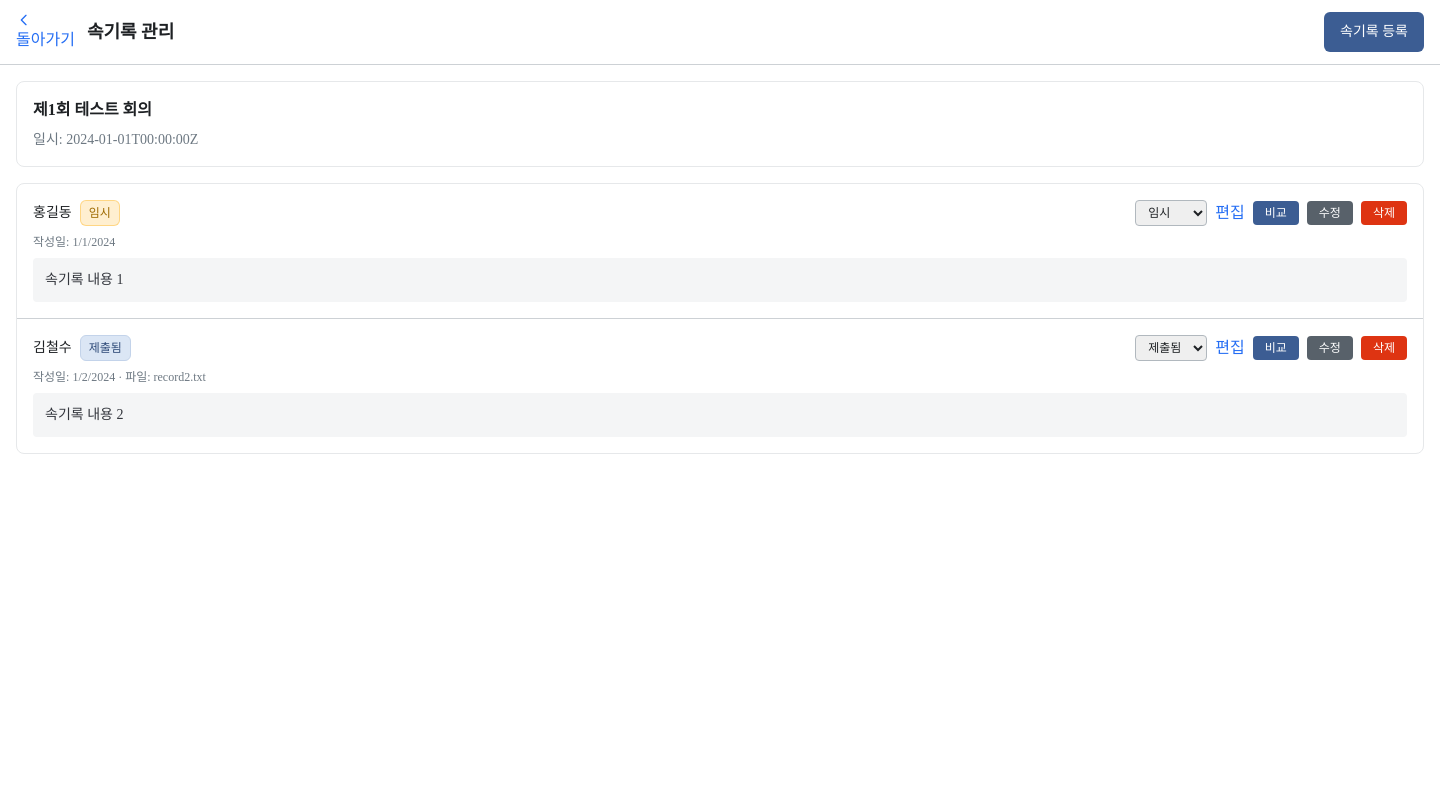
Test: StenographyPage › opens form modal when add button is clicked
The width and height of the screenshot is (1440, 810).
Expected: the element with test id "stenography-page" is shown, left=0, top=0, right=1439, bottom=470
What coordinates should you click on to do the following:
click the button with test id "add-record-button"
I would click on:
 (1374, 32)
Its box is left=1324, top=12, right=1424, bottom=52.
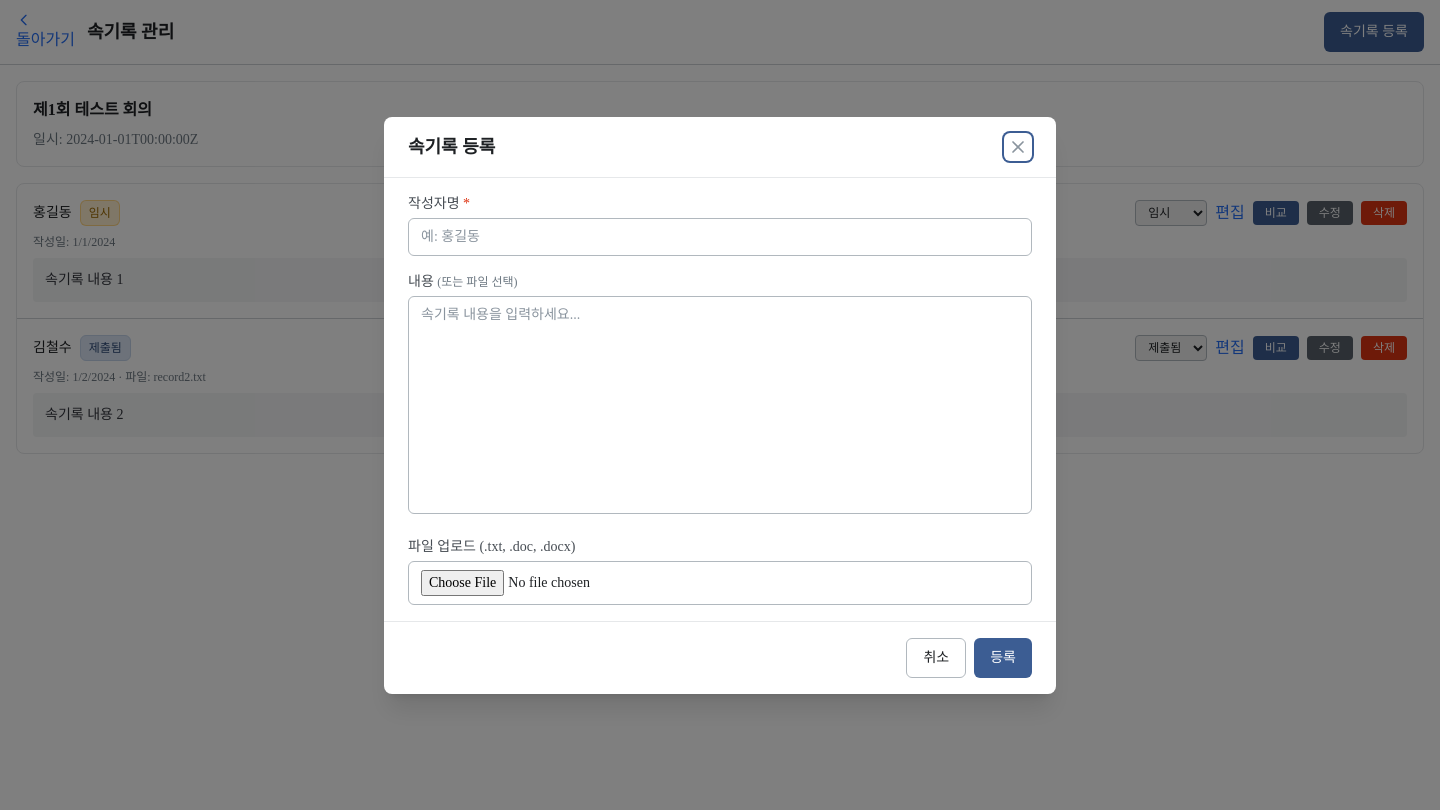
Expected: the field with test id "stenographer-name-input" is shown, left=408, top=218, right=1032, bottom=256
